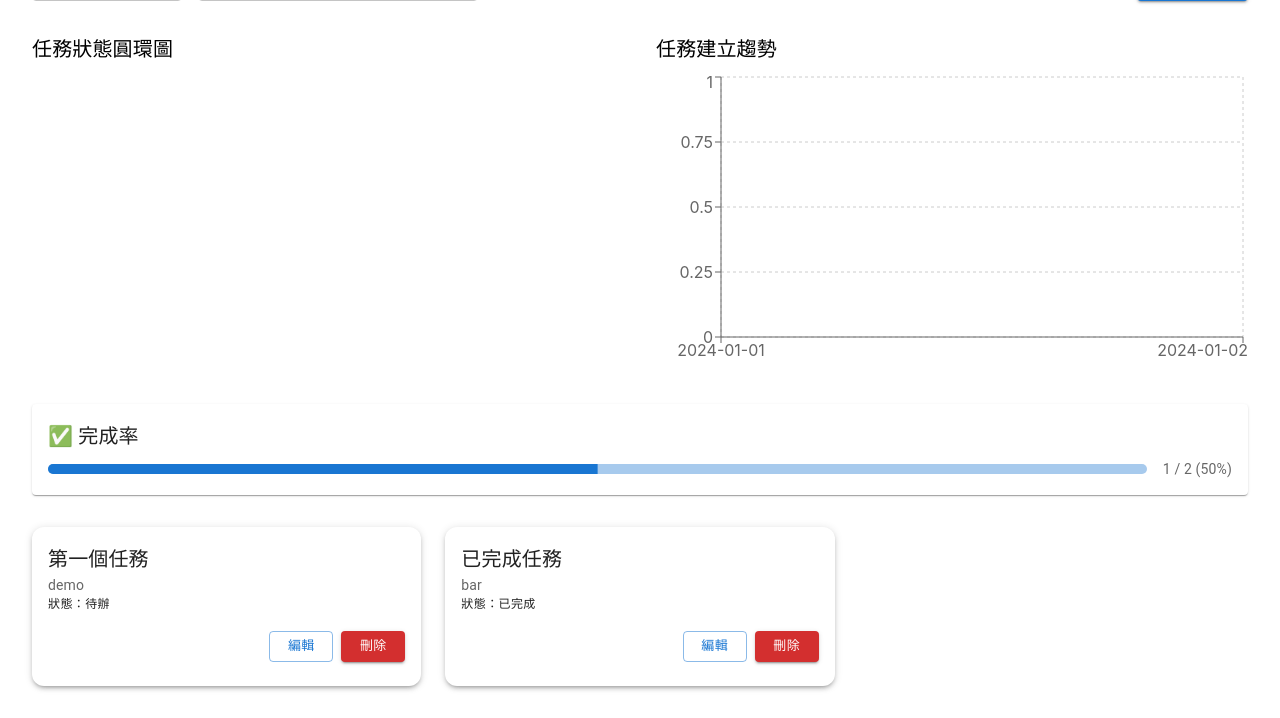
編輯任務成功：更新卡片＋success toast
The width and height of the screenshot is (1280, 718).
(page scrolled)
Click the button "編輯" below "待辦".
click(301, 646)  # box x1=269 y1=631 x2=333 y2=662
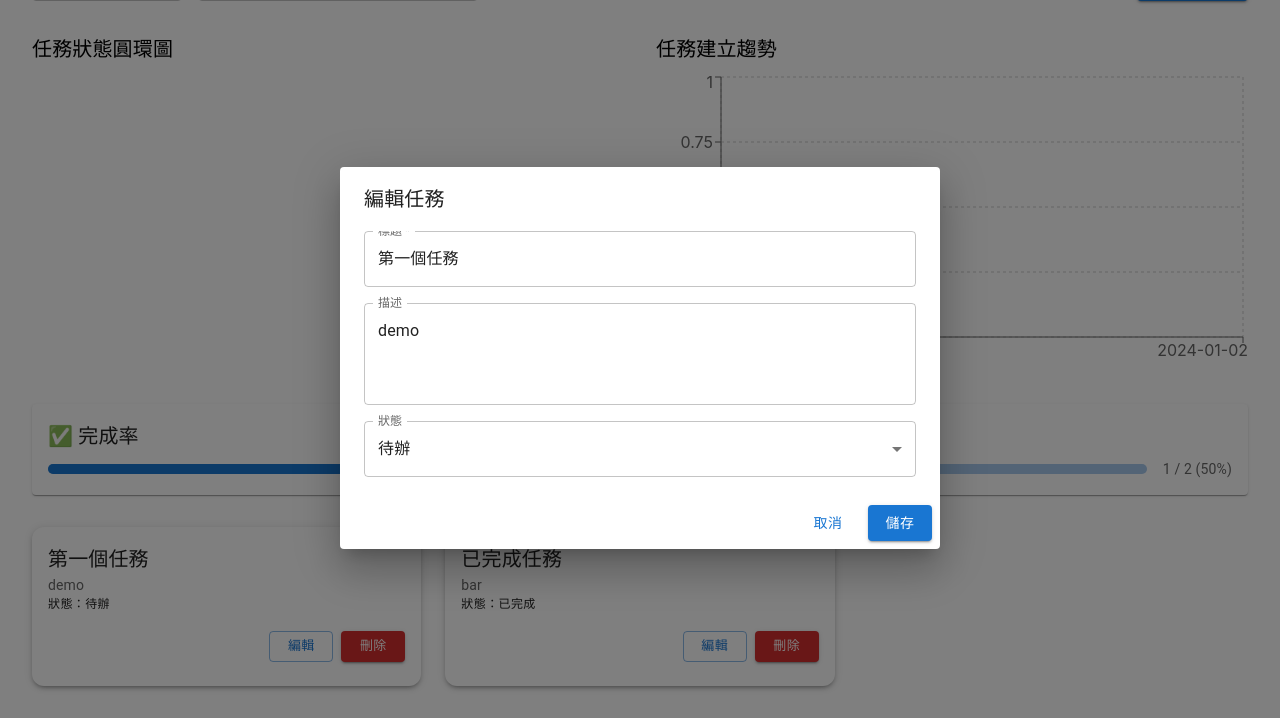
Replace the text in the field labelled "標題 *" with "第一個任務-改" at (640, 259), box x1=364 y1=231 x2=916 y2=287
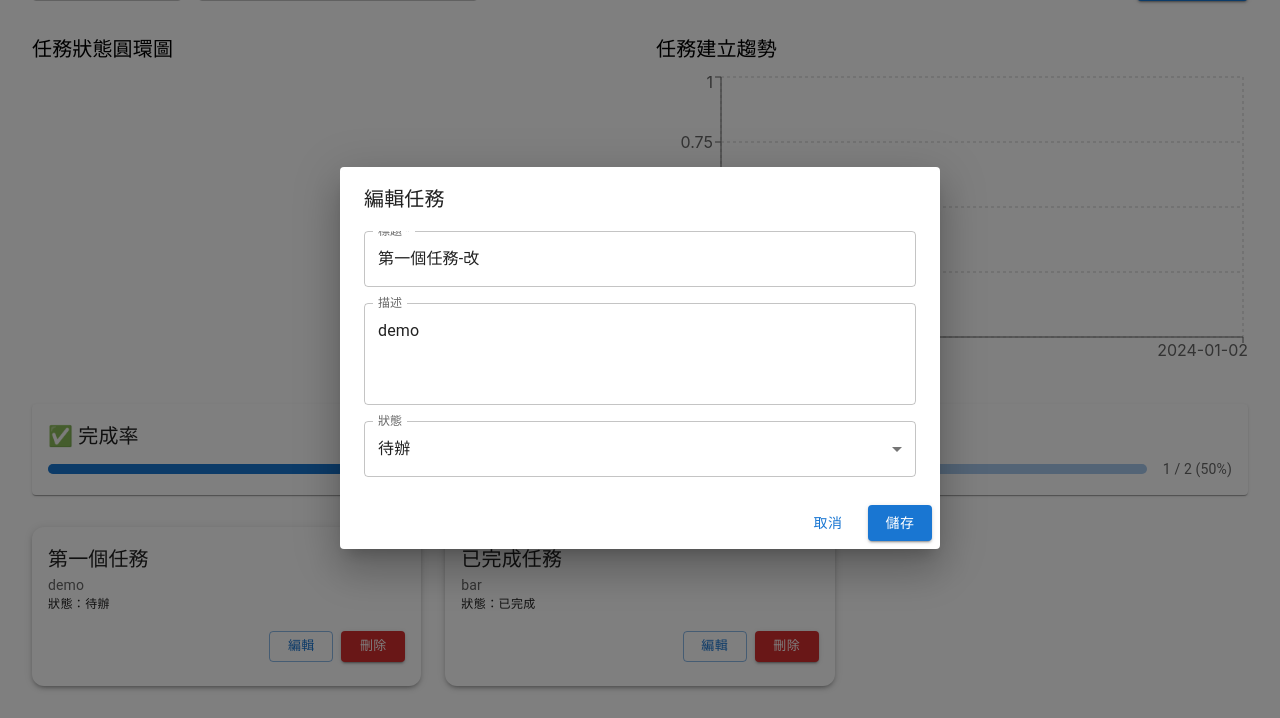
Click the button "儲存".
click(900, 523)  # box x1=868 y1=505 x2=932 y2=541
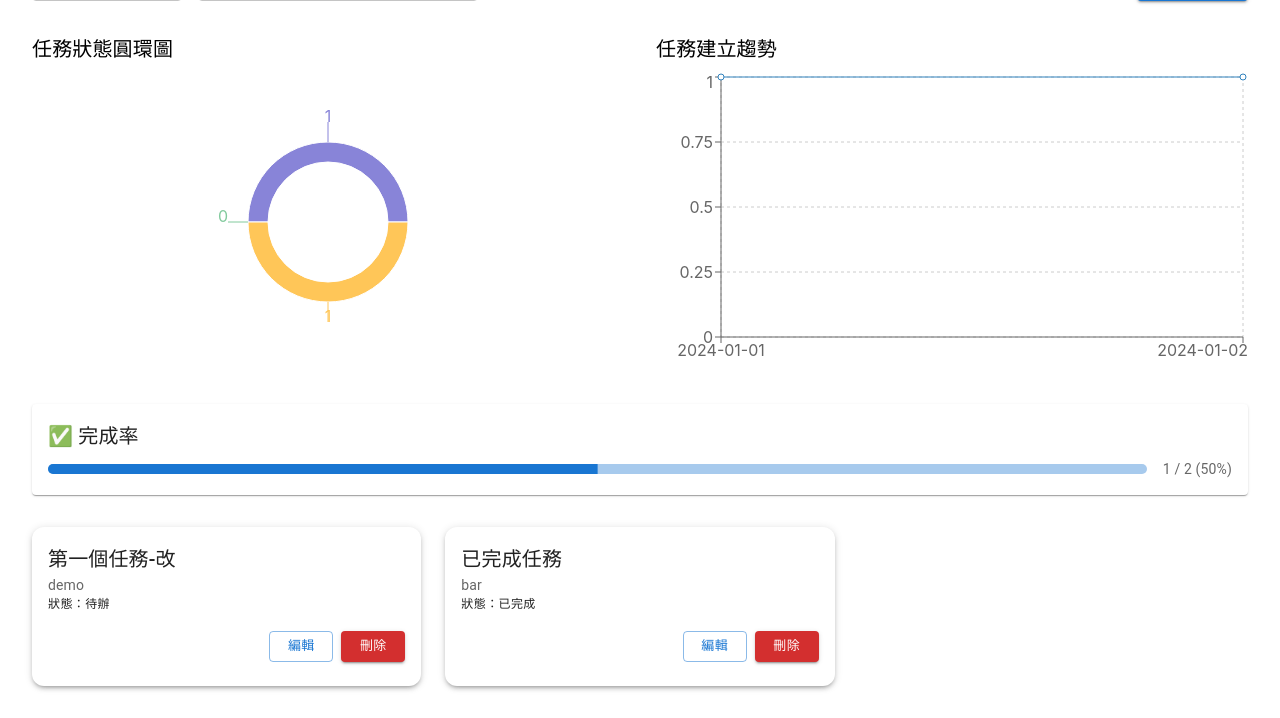
Check: the heading "第一個任務-改" is shown, box x1=48 y1=547 x2=176 y2=571
